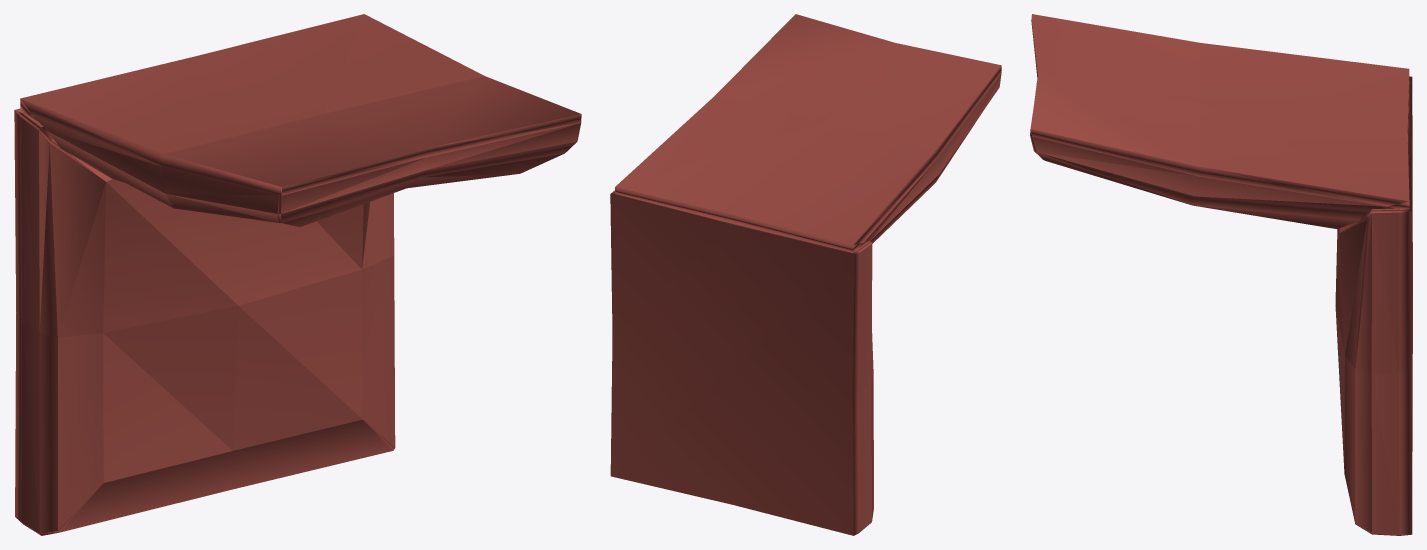
The model's file is ChairmeshChair_311_0_GeomSubset_0.obj.
3 renders of one model, left to right at view 1: azimuth 30°, elevation 25°; view 2: azimuth 150°, elevation 25°; view 3: azimuth 270°, elevation 25°, orthographic. The views are drawn at different scales.
Visible parts, largest first — view 1: ChairmeshChair_311_0_GeomSubset_0; view 2: ChairmeshChair_311_0_GeomSubset_0; view 3: ChairmeshChair_311_0_GeomSubset_0.
Part boxes in pixels (box(x1,y1,x2,y2)): ChairmeshChair_311_0_GeomSubset_0: box(14, 14, 581, 535); ChairmeshChair_311_0_GeomSubset_0: box(610, 14, 1001, 535); ChairmeshChair_311_0_GeomSubset_0: box(1030, 14, 1412, 535).
Bounding box in the file's own units: 0.4069 × 0.548 × 0.4788.
